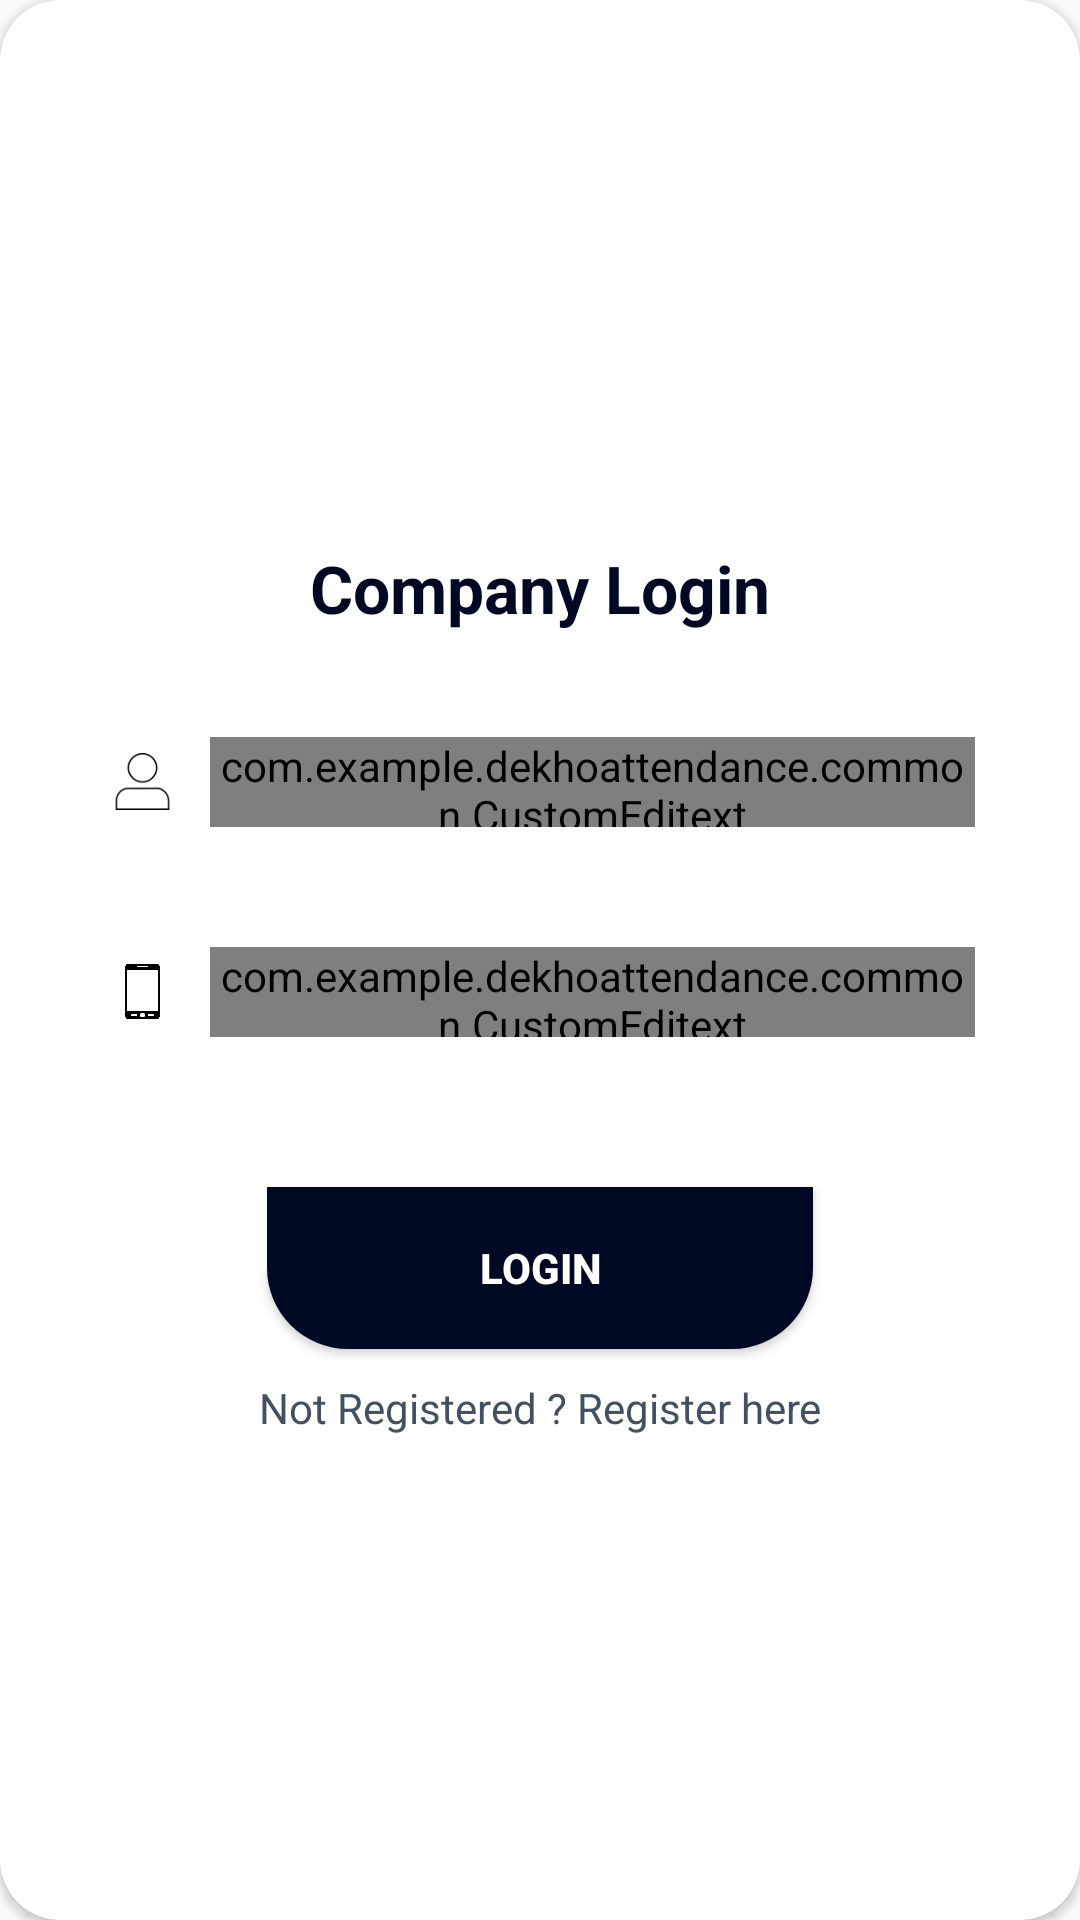

Locate icon controls on the screen. Image size 1080px x 1920px, boxes as (x1, y1, x2, y2).
phone: (125, 964, 160, 1019)
user: (115, 753, 170, 810)
